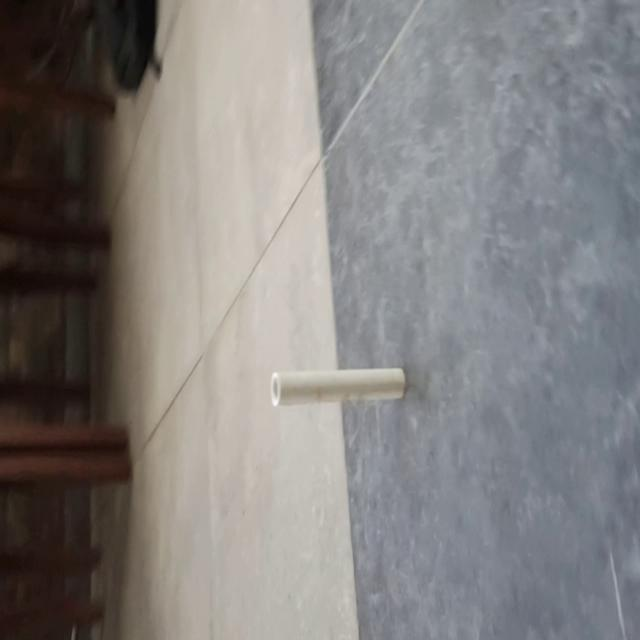Cube: (269, 364, 406, 408)
